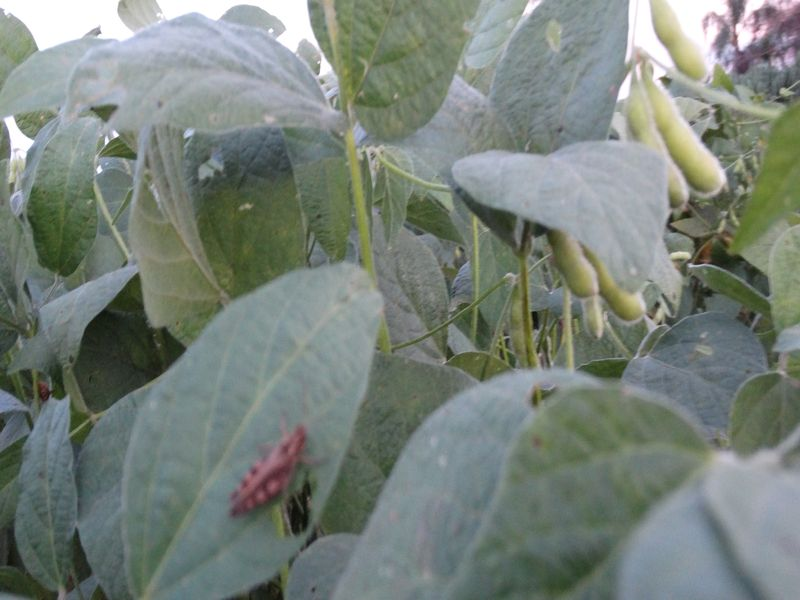Rhammatocerus_schistocercoides: (212, 404, 327, 534)
